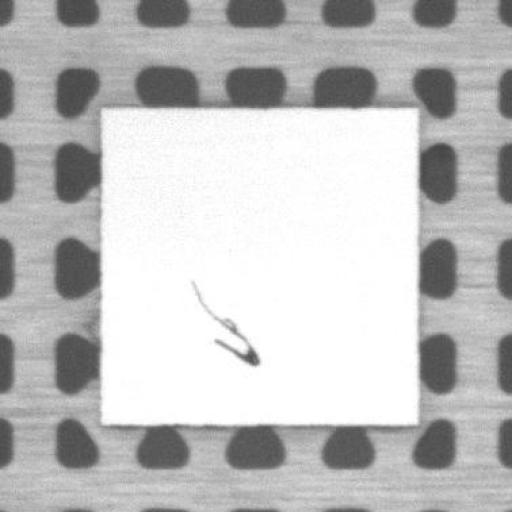DIE_INK: (190, 281, 258, 369)
